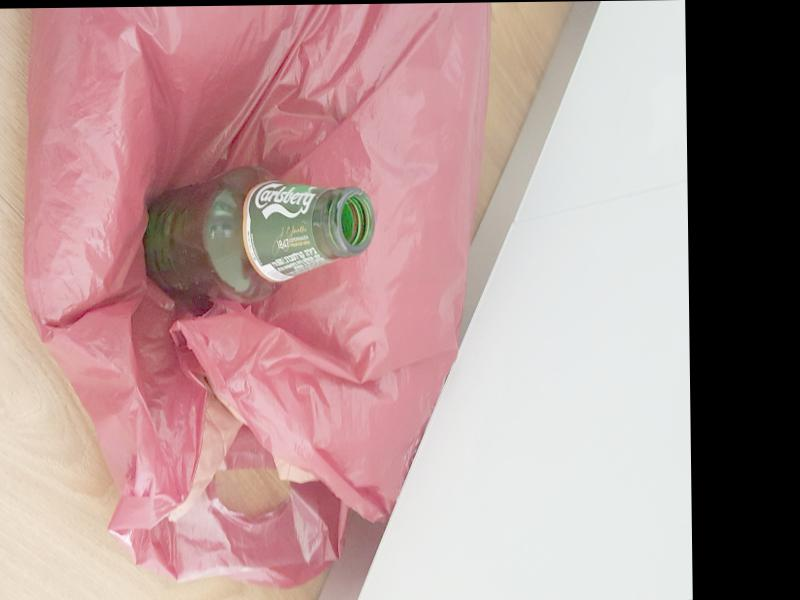Beer: (141, 166, 373, 304)
